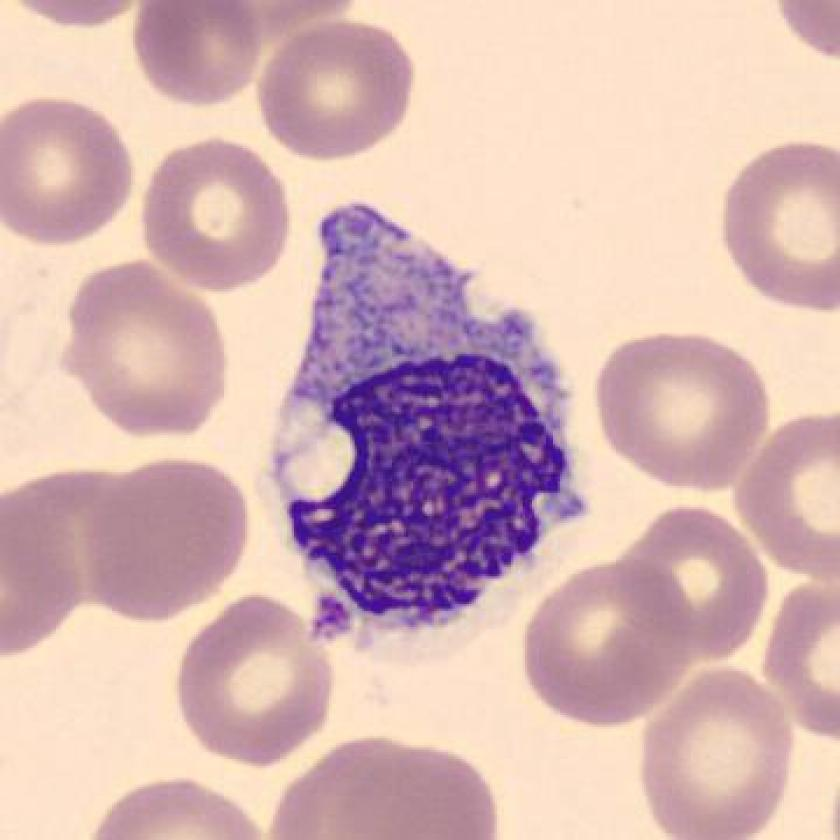monocyte: (244, 177, 603, 679)
